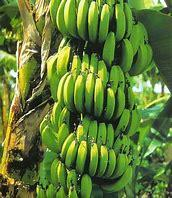banana: (34, 1, 164, 198), (37, 113, 146, 193), (40, 47, 134, 120), (38, 0, 153, 49)
